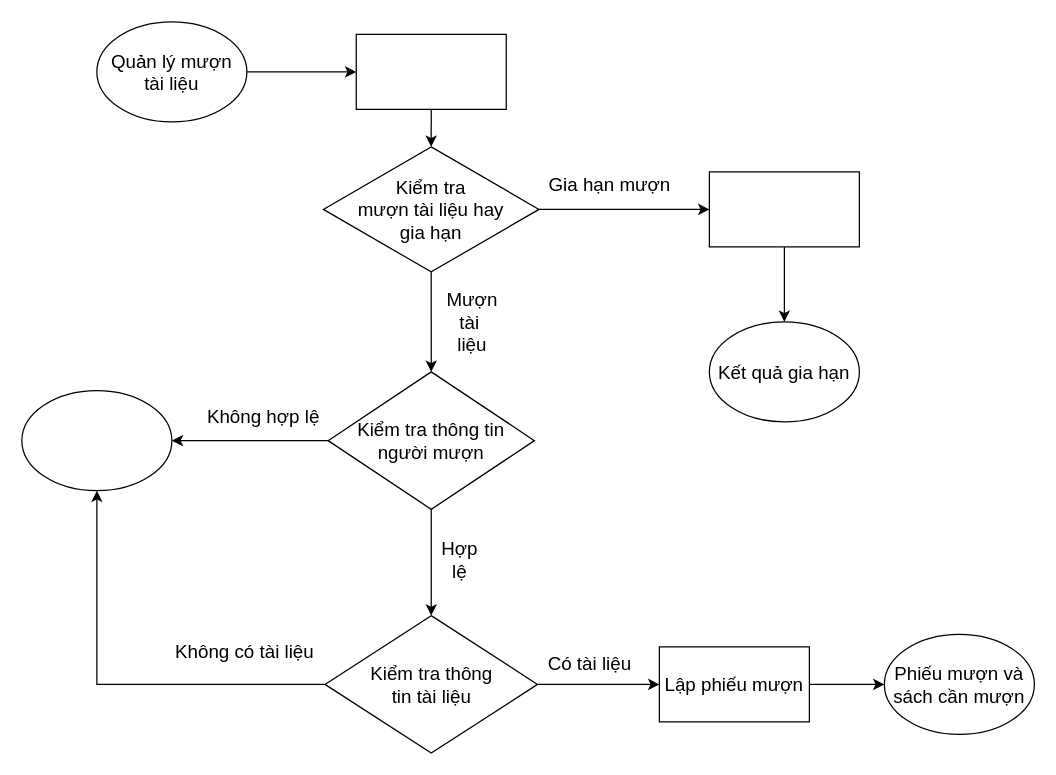
This 1056x775 diagram has some shape labels left out. Each missing label, with the box of its shape:
Cập nhật thông tin gia hạn: (708, 171, 859, 247)
Không cho mượn: (21, 389, 172, 491)
Thông tin mượn: (355, 33, 506, 109)
